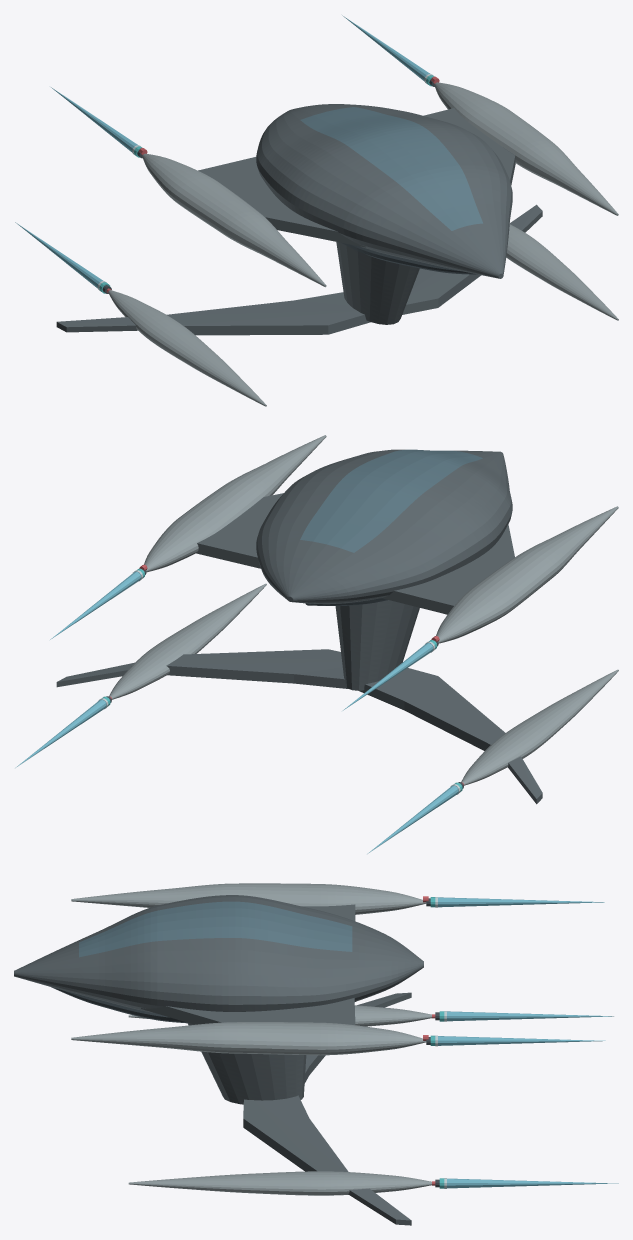
The model's file is arma_black_flight.glb.
3 views of the same model, one above another, from view 1: azimuth 30°, elevation 25°; view 2: azimuth 150°, elevation 25°; view 3: azimuth 270°, elevation 25° (orthographic). The views are drawn at different scales.
Visible parts, largest first — view 1: material_0, material_3, material_1, material_7, material_2; view 2: material_0, material_3, material_1, material_7; view 3: material_0, material_3, material_1, material_7, material_2.
Boxes of the visible parts, bbox=[...] form: material_0: bbox=[56, 104, 542, 335]; material_3: bbox=[108, 82, 618, 406]; material_1: bbox=[300, 107, 482, 230]; material_7: bbox=[15, 15, 430, 288]; material_2: bbox=[102, 79, 477, 293]; material_0: bbox=[56, 449, 542, 804]; material_3: bbox=[109, 435, 618, 785]; material_1: bbox=[300, 449, 482, 552]; material_7: bbox=[15, 571, 458, 853]; material_0: bbox=[14, 895, 423, 1225]; material_3: bbox=[71, 883, 431, 1195]; material_1: bbox=[79, 901, 352, 957]; material_7: bbox=[438, 897, 618, 1188]; material_2: bbox=[51, 898, 439, 1187].
Size of the model in its own units: 4.8 by 1.91 by 5.39.
